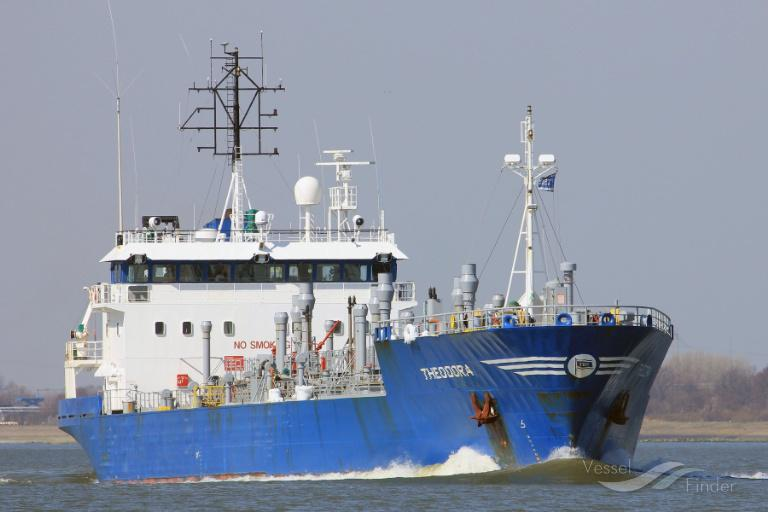OCR: (416, 359, 482, 388)
